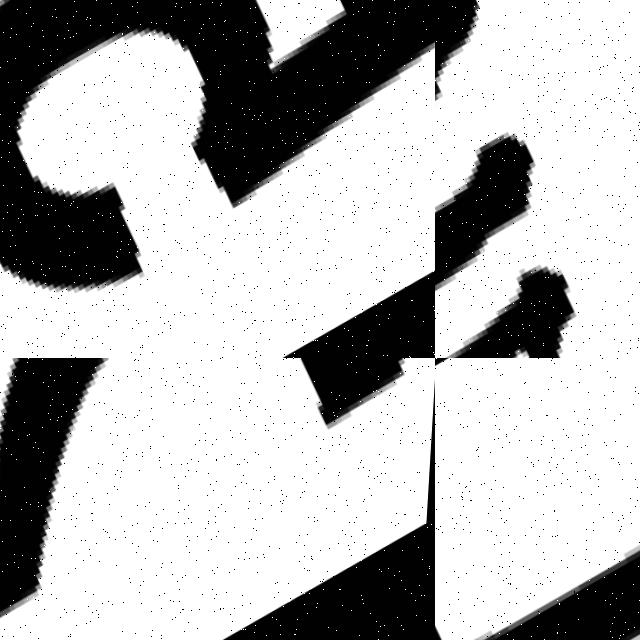1: (435, 358, 640, 640)
2: (0, 358, 435, 640)
5: (0, 0, 435, 358)
W: (435, 52, 628, 358)
